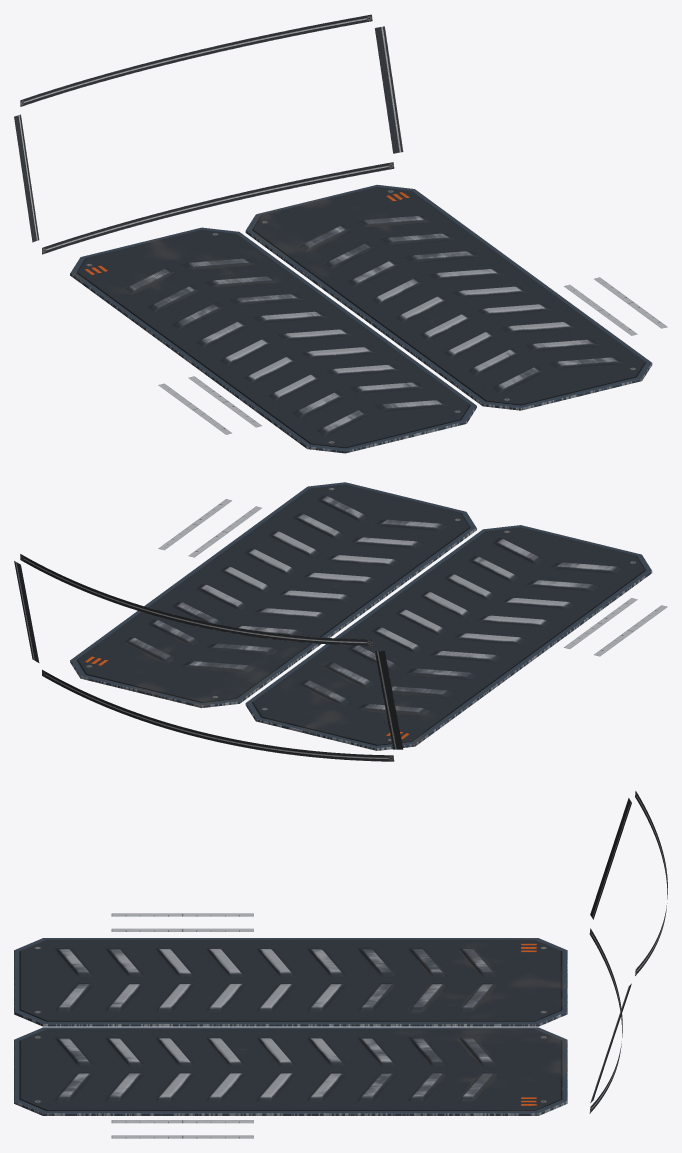
Rendered from bezel_hd.glb.
The picture shows the model from 3 angles, top to bottom: view 1: azimuth 30°, elevation 25°; view 2: azimuth 150°, elevation 25°; view 3: azimuth 270°, elevation 25°; orthographic projection. The views are drawn at different scales.
Visible parts, largest first — view 1: Bezel, InstrumentRails; view 2: Bezel, InstrumentRails; view 3: Bezel, InstrumentRails.
Boxes of the visible parts, left/top/right/bottom form: Bezel: left=70, top=184, right=667, bottom=453; InstrumentRails: left=14, top=14, right=403, bottom=254; Bezel: left=70, top=482, right=667, bottom=750; InstrumentRails: left=14, top=554, right=403, bottom=761; Bezel: left=14, top=913, right=567, bottom=1138; InstrumentRails: left=589, top=791, right=667, bottom=1113.
Bounding box in the file's own units: 1 × 0.318 × 1.23.
1 material, 1 textured.
